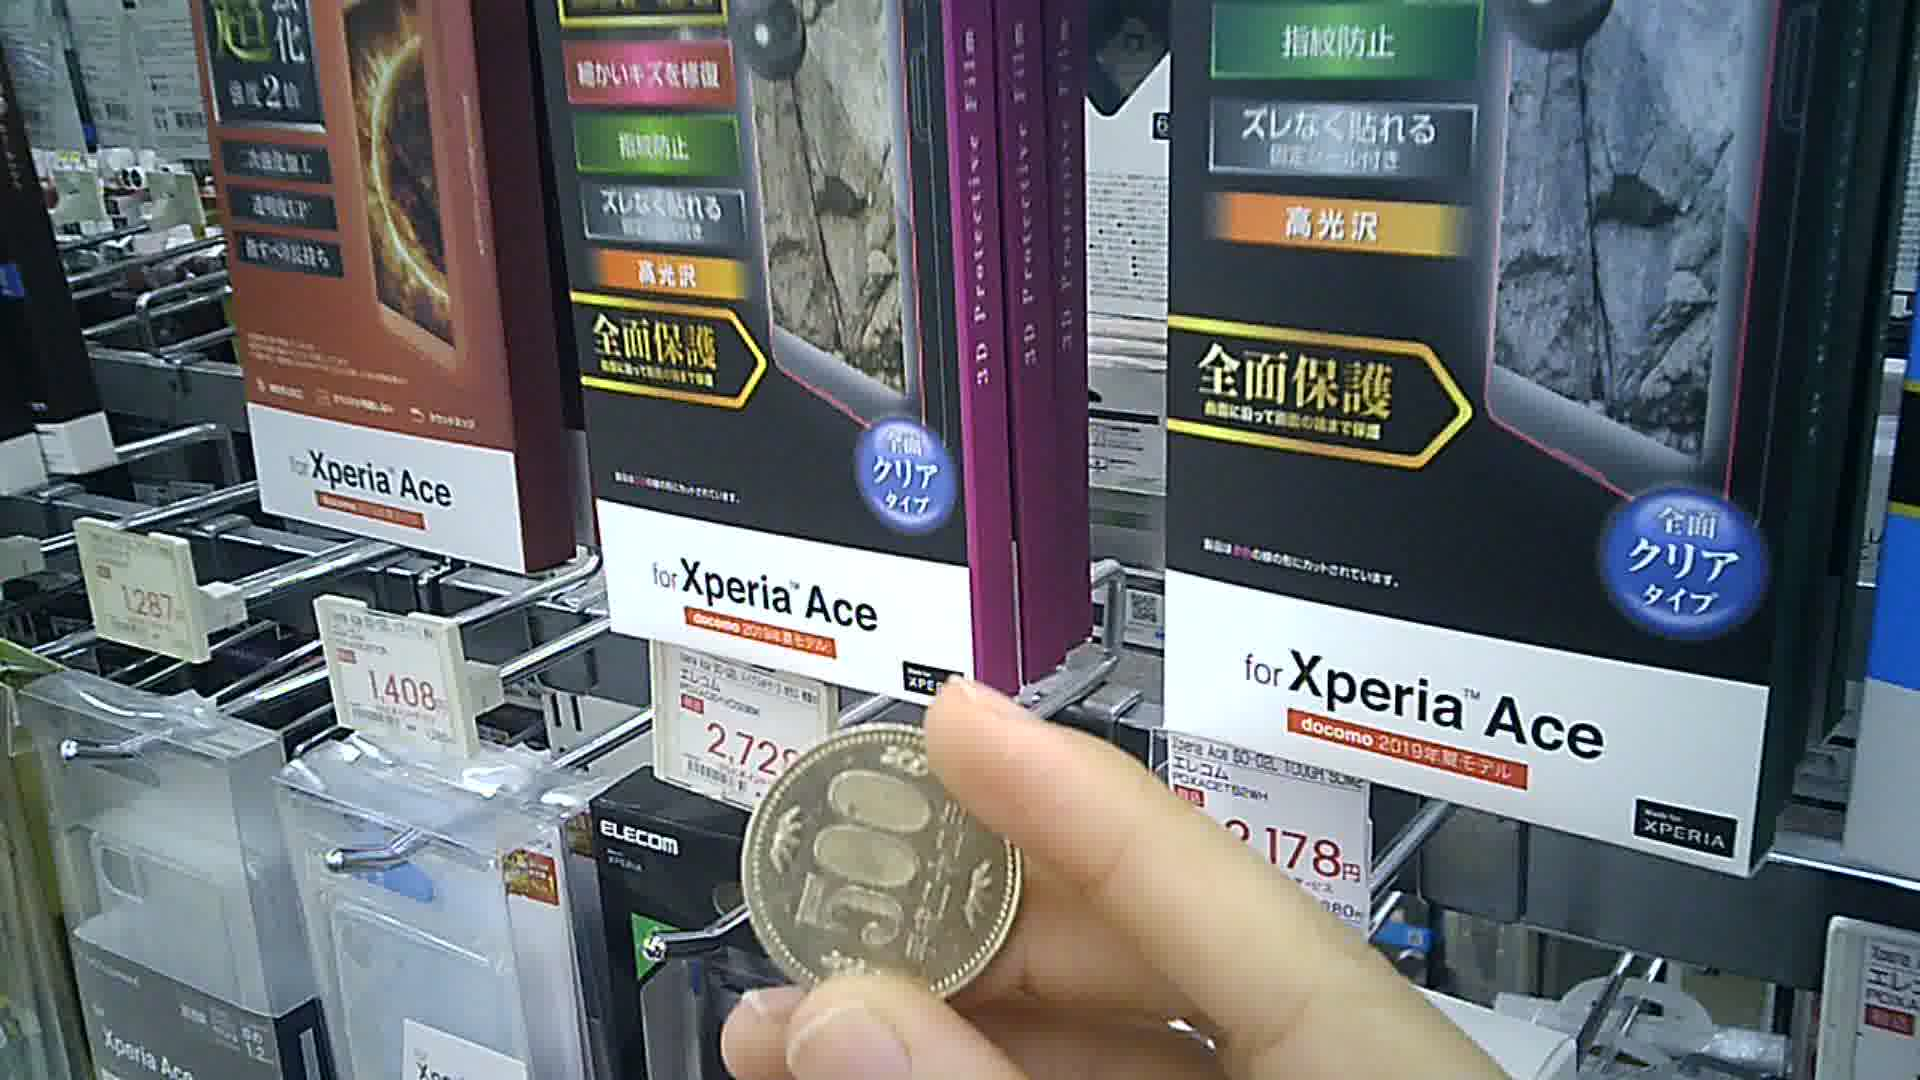500 Yen: (742, 725, 1021, 1015)
